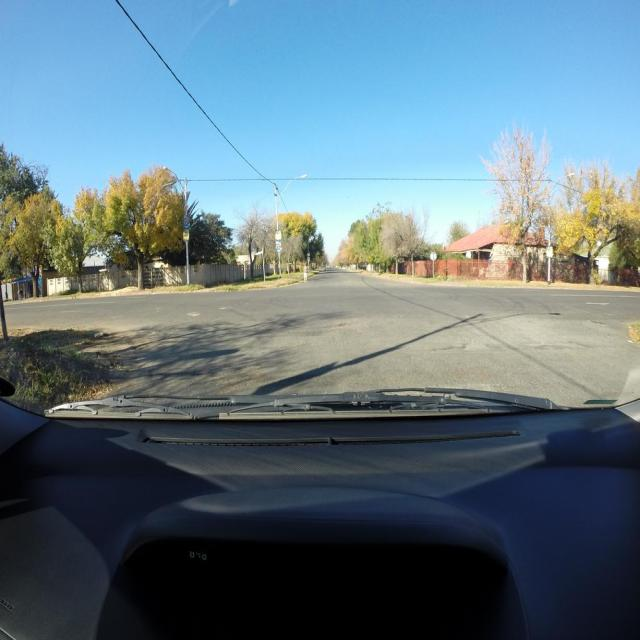Pothole: (466, 343, 490, 353), (339, 323, 350, 327)
